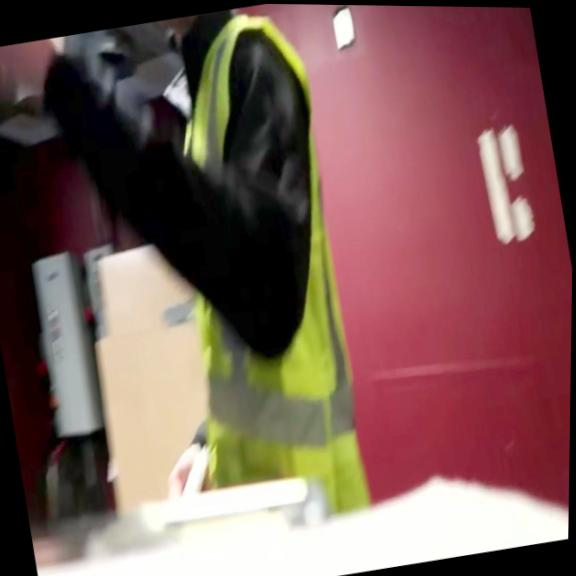safety_vest: (132, 2, 389, 532)
